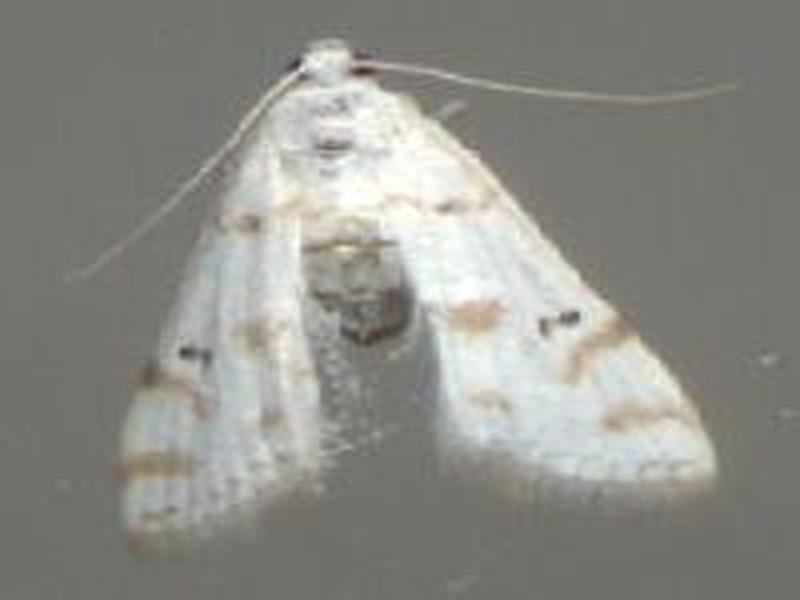Rice_case_worm: (76, 28, 720, 534)
